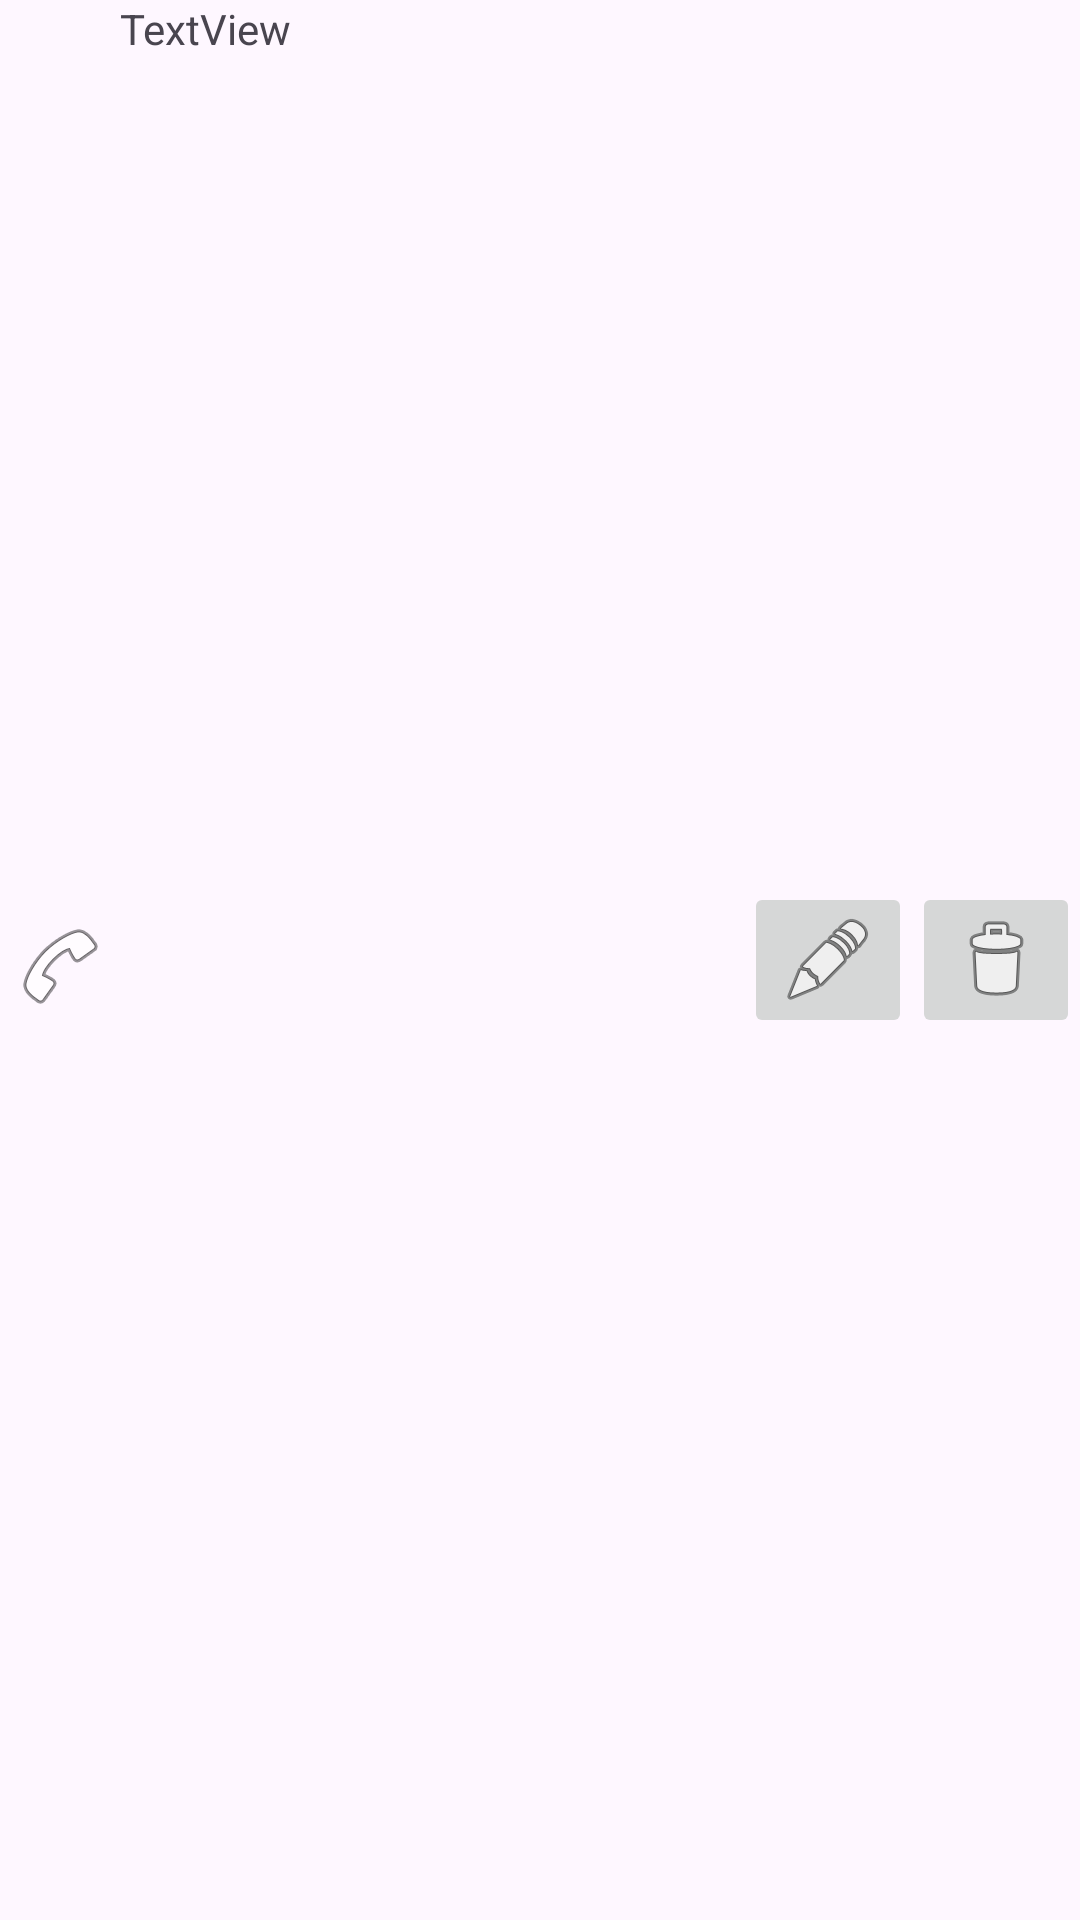

Icons on this 1080x1920 Android screen, each with its box as (x1, y1, x2, y2):
call: (23, 929, 98, 1004)
delete: (924, 900, 1068, 1020)
edit: (756, 900, 900, 1020)
